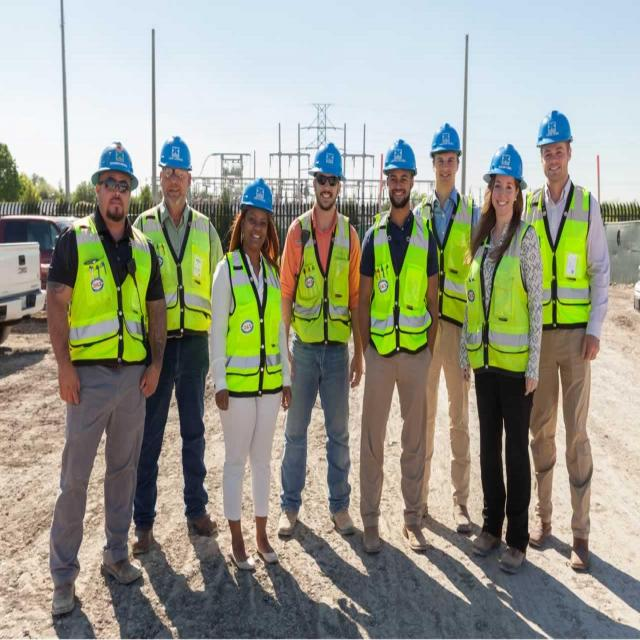Reflective-Jacket: (63, 222, 154, 365), (464, 224, 535, 375), (530, 183, 596, 329), (368, 208, 433, 352), (222, 251, 286, 394), (290, 211, 358, 345), (146, 206, 214, 337)
Safety-Helmet: (88, 139, 136, 184), (482, 142, 524, 182), (534, 106, 574, 148), (308, 140, 346, 180), (380, 138, 420, 173), (157, 135, 193, 172), (428, 120, 462, 158), (239, 177, 275, 212)
